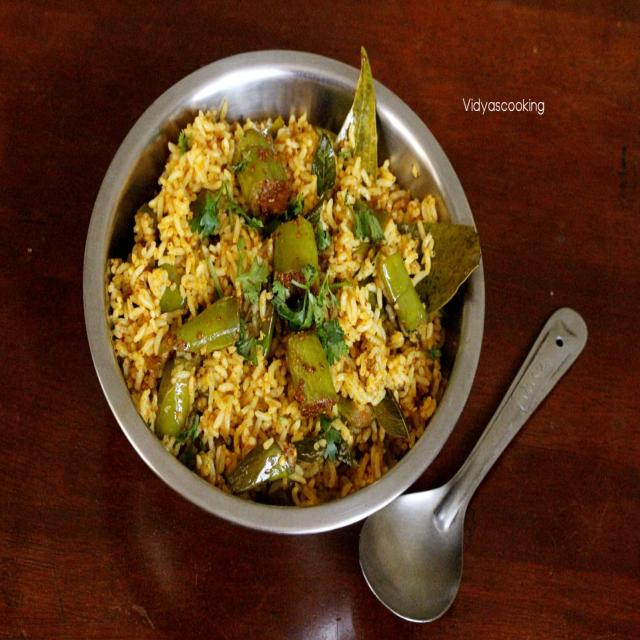vangi bath: (96, 89, 462, 514)
